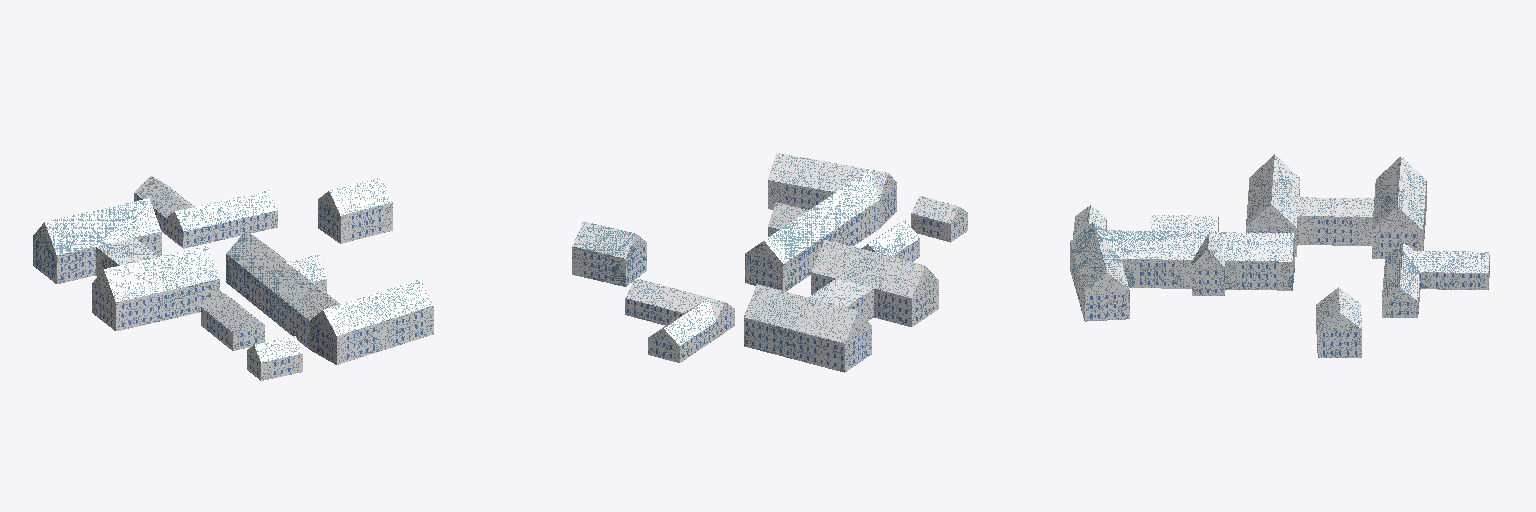
Rendered from Dieburg.obj.
The picture shows the model from 3 angles: view 1: azimuth 30°, elevation 25°; view 2: azimuth 150°, elevation 25°; view 3: azimuth 270°, elevation 25°; orthographic projection.
Visible parts, largest first — view 1: SketchUp.002_ID25; view 2: SketchUp.002_ID25; view 3: SketchUp.002_ID25.
Part boxes in pixels (left/top/right/bottom): SketchUp.002_ID25: left=33, top=176, right=433, bottom=380; SketchUp.002_ID25: left=572, top=153, right=967, bottom=372; SketchUp.002_ID25: left=1070, top=154, right=1489, bottom=357.
Size of the model in its own units: 4.37 by 0.7112 by 5.11.